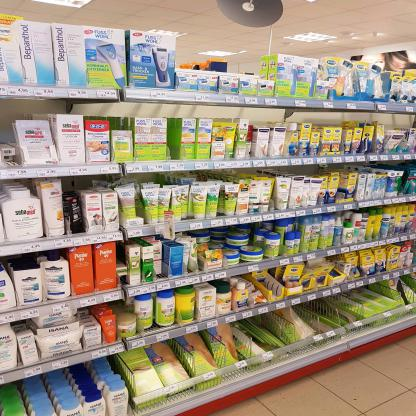Void: (178, 36, 262, 72), (14, 321, 28, 329)
